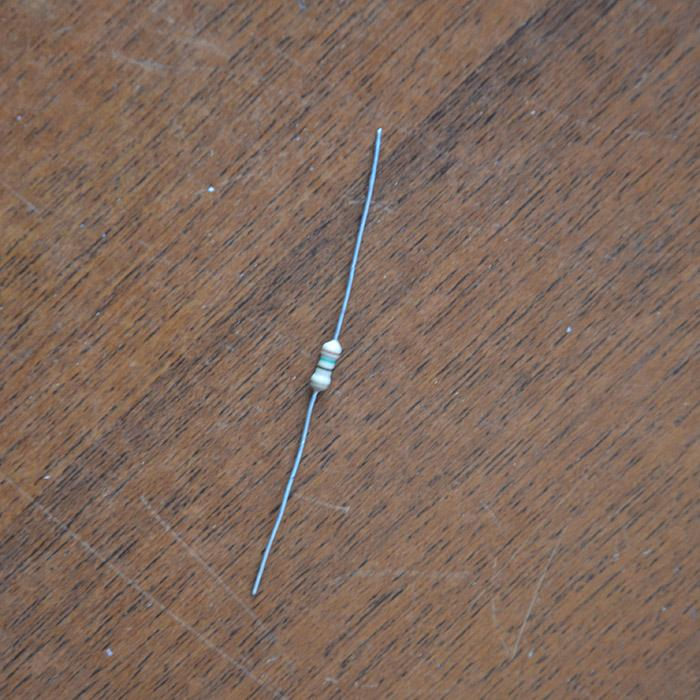resistor: (309, 338, 340, 392)
